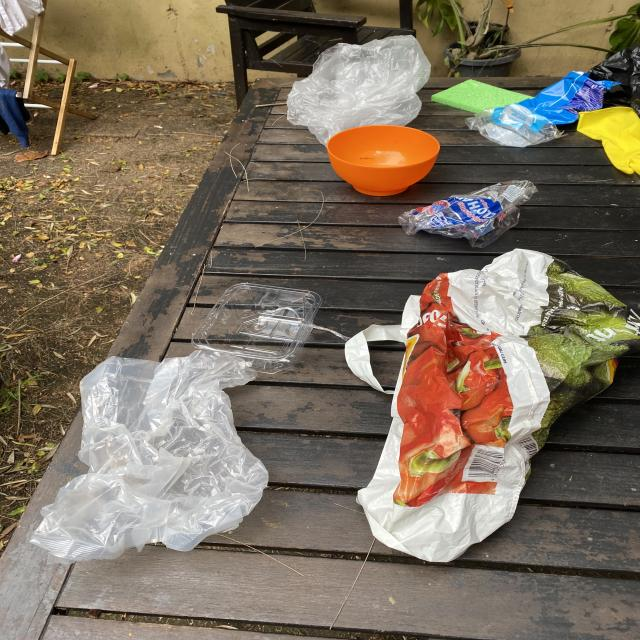bag: (345, 248, 640, 564), (29, 349, 269, 566), (286, 34, 432, 149), (516, 70, 622, 124), (587, 42, 640, 106)
bowl: (327, 126, 440, 196)
cup: (190, 281, 322, 374)
glove: (576, 106, 640, 176)
sponge: (431, 79, 535, 113)
wrappers: (398, 180, 539, 248), (465, 104, 568, 147)
